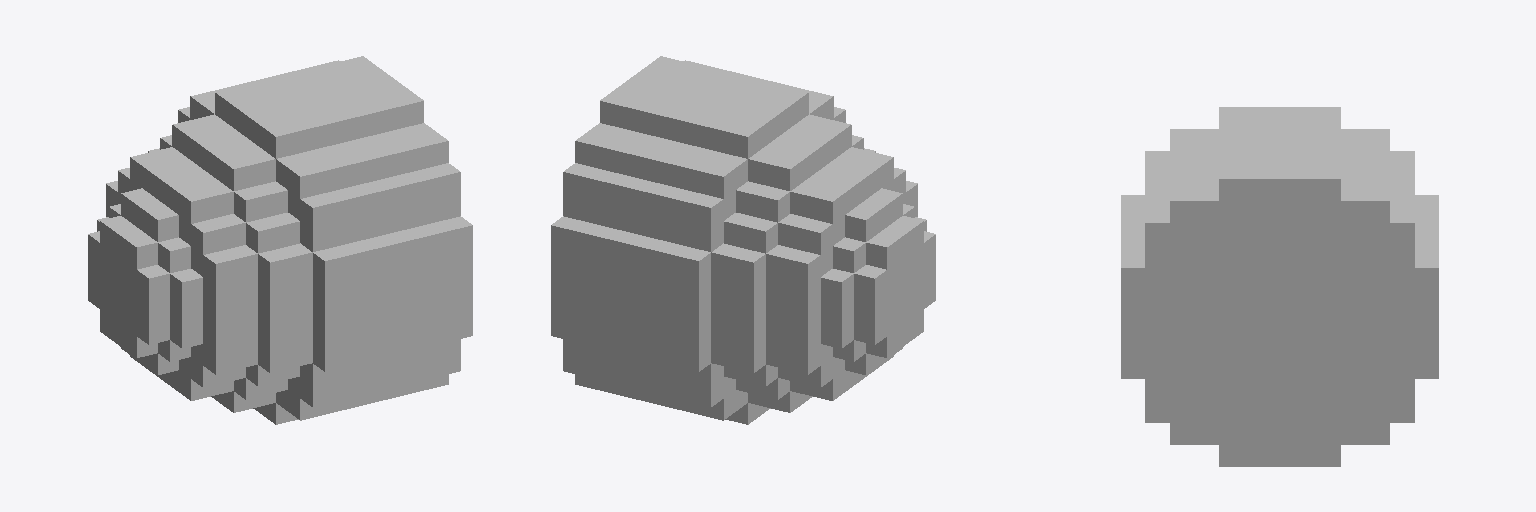
Rendered from Bullets 1.obj.
3 renders of one model, left to right at view 1: azimuth 30°, elevation 25°; view 2: azimuth 150°, elevation 25°; view 3: azimuth 270°, elevation 25°, orthographic.
Bounding box in the file's own units: 13 × 13 × 13.